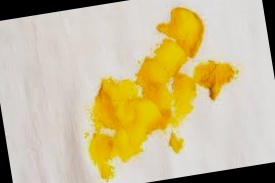mustard: (77, 52, 194, 174), (168, 54, 244, 120), (148, 5, 215, 76)
